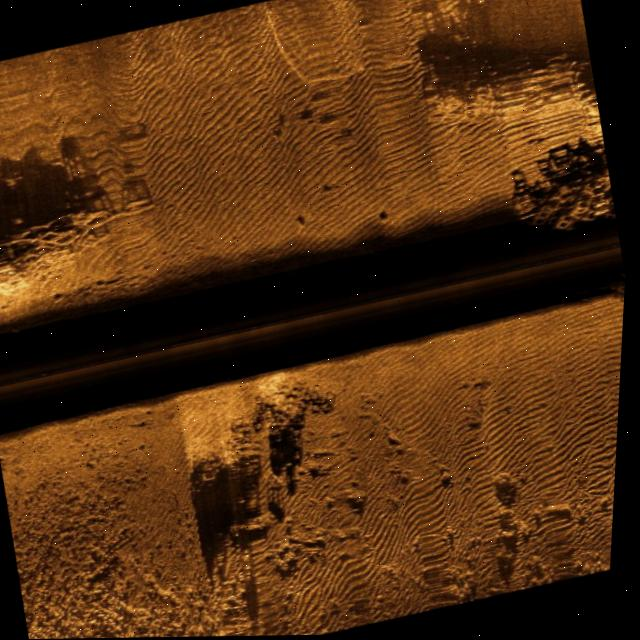artificial reef: (0, 190, 129, 337), (491, 152, 622, 249)
